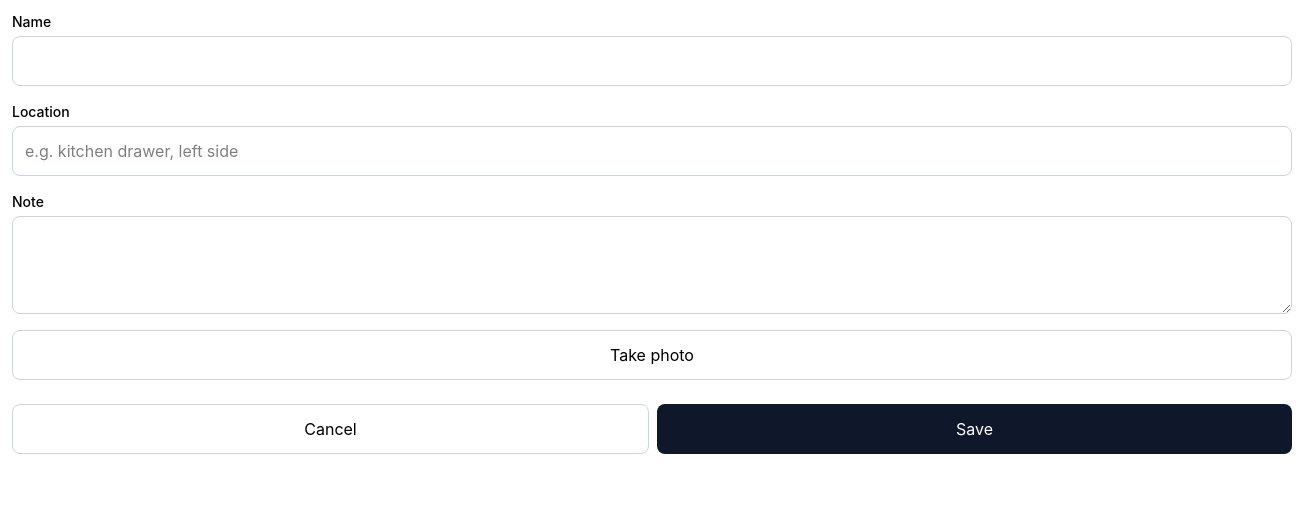
Test: ItemForm › blocks submit when name or location is empty
What coordinates should you click on to do the following:
click the button "Save"
I would click on:
 (974, 429)
Its box is [657,404,1292,454].
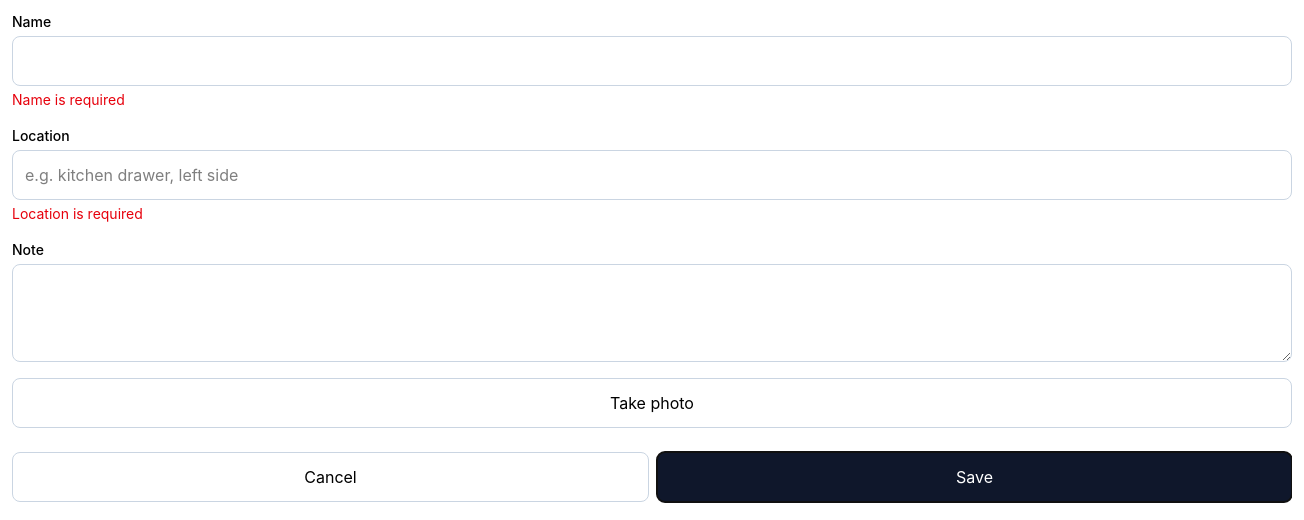
Now the text "Name is required" is shown, box [12,91,125,108]
Now the text "Location is required" is shown, box [12,205,143,222]
